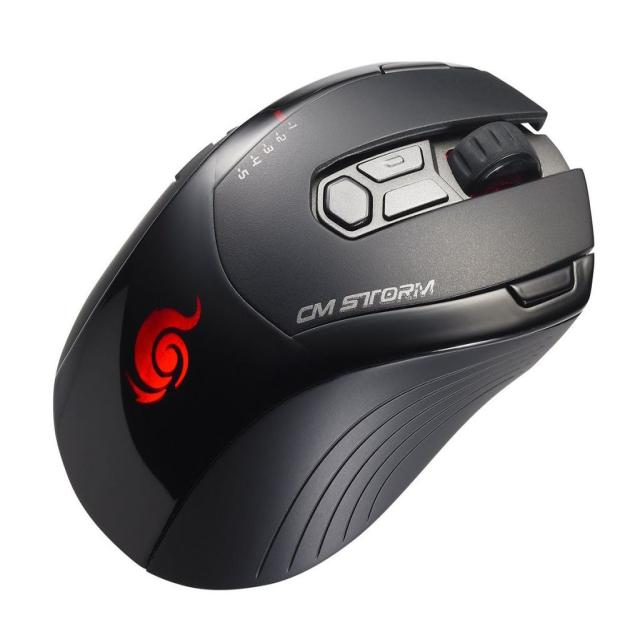Computer-mouse: (53, 57, 594, 591)
